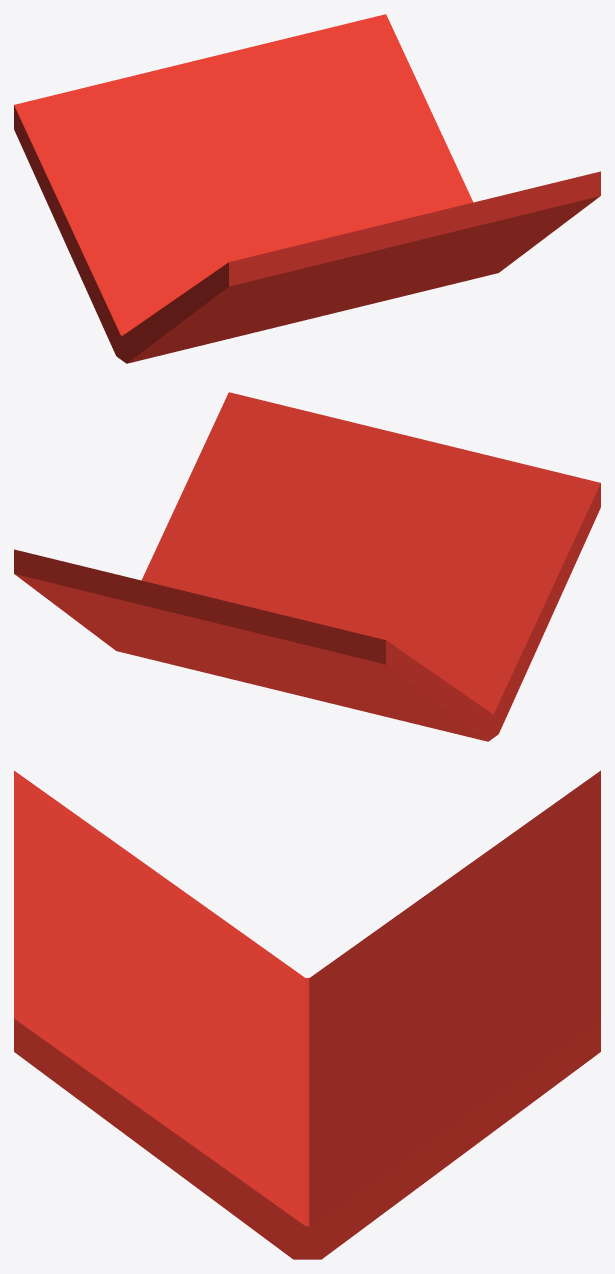
File: 1kitap.fbx
The picture shows the model from 3 angles, top to bottom: view 1: azimuth 30°, elevation 25°; view 2: azimuth 150°, elevation 25°; view 3: azimuth 270°, elevation 25°; orthographic projection. The views are drawn at different scales.
Visible parts, largest first — view 1: Cube.002; view 2: Cube.002; view 3: Cube.002.
Boxes of the visible parts, x1,y1,x2,y2 form: Cube.002: (14, 14, 600, 363); Cube.002: (14, 392, 600, 741); Cube.002: (14, 770, 600, 1259).
Bounding box in the file's own units: 159 × 72.14 × 159.
